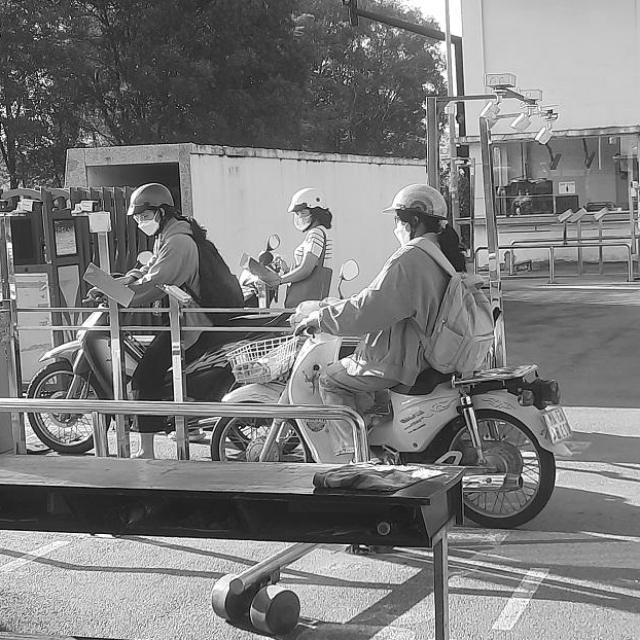Helmet: (389, 184, 453, 244), (128, 179, 174, 237), (286, 186, 329, 230)
